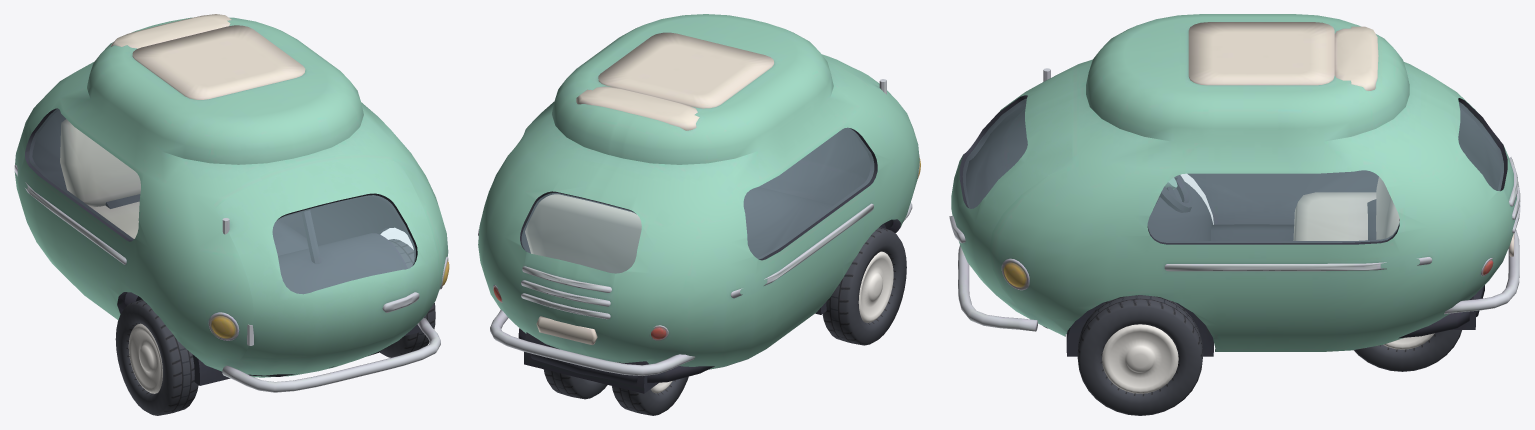
Rendered from microcar.glb.
3 views of the same model, side by side, from view 1: azimuth 30°, elevation 25°; view 2: azimuth 150°, elevation 25°; view 3: azimuth 270°, elevation 25° (orthographic). The views are drawn at different scales.
Parts seen in each view (by area): view 1: microcar_body, microcar_front_door, microcar_door_windows, microcar_windows, microcar_wheel_fr, microcar_wheel_fl; view 2: microcar_body, microcar_windows, microcar_wheel_fr, microcar_front_door, microcar_wheel_rr, microcar_wheel_rl; view 3: microcar_body, microcar_windows, microcar_wheel_fl, microcar_front_door, microcar_door_windows, microcar_wheel_rl.
Part boxes in pixels (x1,y1,x2,y2): microcar_body: (14,14,449,392); microcar_front_door: (215,158,438,358); microcar_door_windows: (272,195,415,293); microcar_windows: (29,109,140,240); microcar_wheel_fr: (115,299,198,415); microcar_wheel_fl: (379,239,435,357); microcar_body: (478,14,920,393); microcar_windows: (522,128,873,273); microcar_wheel_fr: (822,227,906,345); microcar_front_door: (803,54,892,178); microcar_wheel_rr: (612,376,688,415); microcar_wheel_rl: (543,369,607,399); microcar_body: (958,14,1520,356); microcar_windows: (1148,102,1503,242); microcar_wheel_fl: (1077,295,1203,415); microcar_front_door: (949,67,1072,300); microcar_door_windows: (963,98,1027,208); microcar_wheel_rl: (1354,330,1461,371).
Size of the model in its own units: 1.42 by 1.35 by 2.35.
20 materials, 6 textured.
